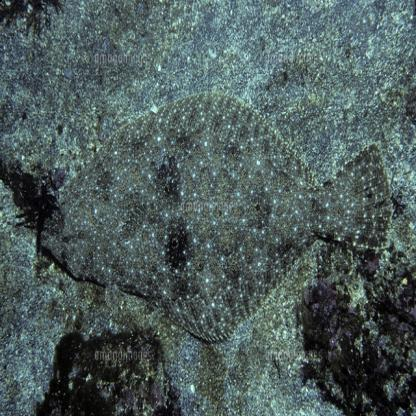flounder: (40, 89, 375, 343)
